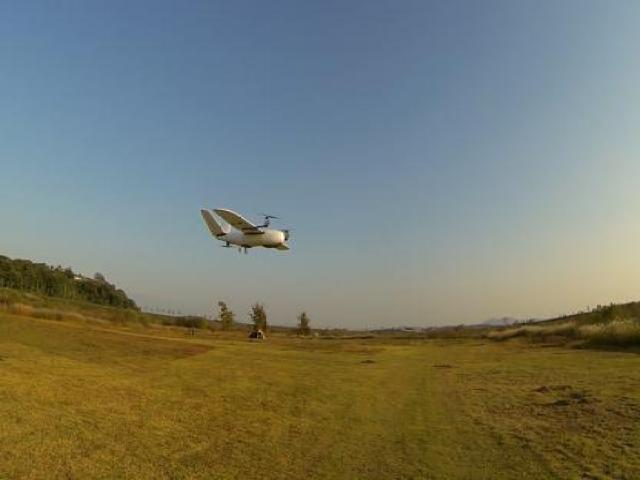uav: (189, 196, 294, 267)
